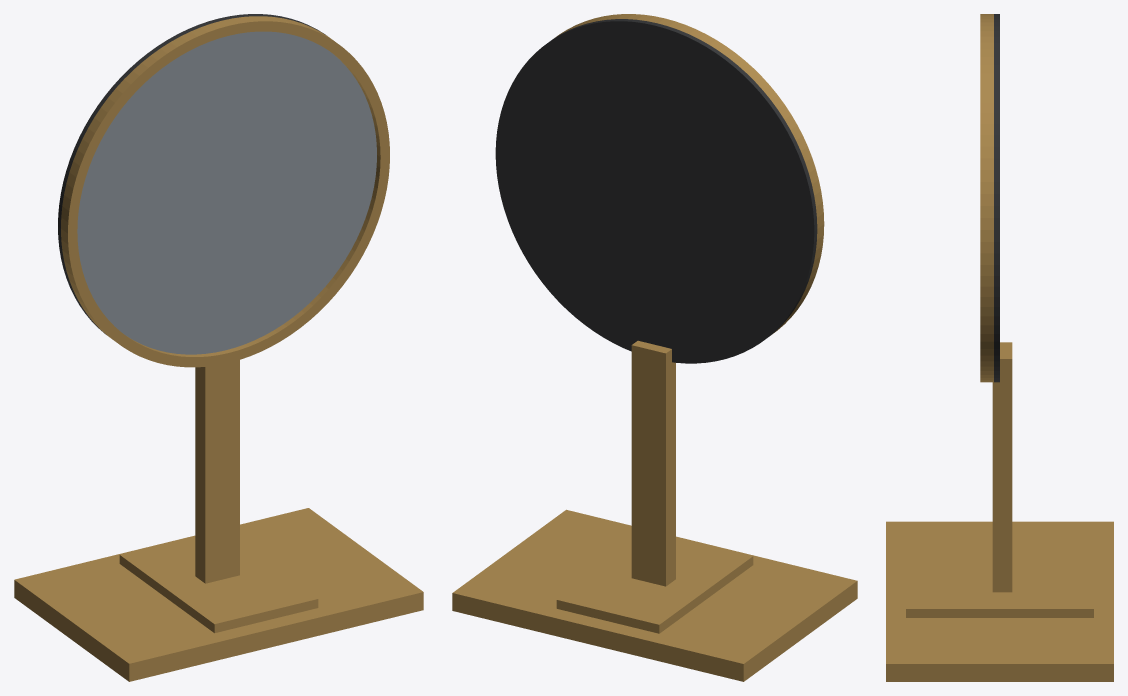
Rendered from core-round.glb.
3 views of the same model, side by side, from view 1: azimuth 30°, elevation 25°; view 2: azimuth 150°, elevation 25°; view 3: azimuth 270°, elevation 25° (orthographic).
Parts seen in each view (by area): view 1: mirror-surface, mirror-platform, mirror-frame, mirror-post, mirror-base, mirror-back; view 2: mirror-back, mirror-platform, mirror-post, mirror-base, mirror-frame; view 3: mirror-platform, mirror-base, mirror-frame, mirror-post, mirror-back.
Part boxes in pixels (x1,y1,x2,y2): mirror-surface: (77,31,376,354); mirror-platform: (14,508,423,681); mirror-frame: (61,16,389,367); mirror-post: (195,360,239,583); mirror-base: (119,536,318,633); mirror-back: (58,14,325,334); mirror-back: (495,19,817,363); mirror-platform: (452,509,857,681); mirror-post: (631,340,675,586); mirror-base: (556,537,753,633); mirror-frame: (555,14,824,334); mirror-platform: (886,521,1113,681); mirror-base: (906,559,1093,617); mirror-frame: (980,14,993,382); mirror-post: (992,342,1012,592); mirror-back: (994,14,999,382).
Bounding box in the file's own units: 0.744 × 1.29 × 0.46.
